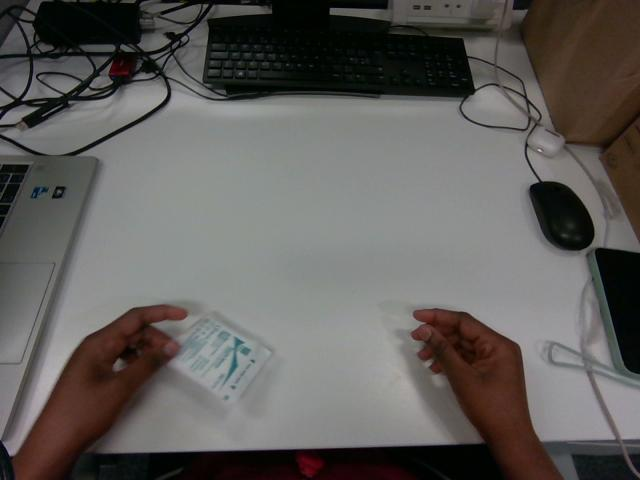gauze: (169, 314, 270, 402)
